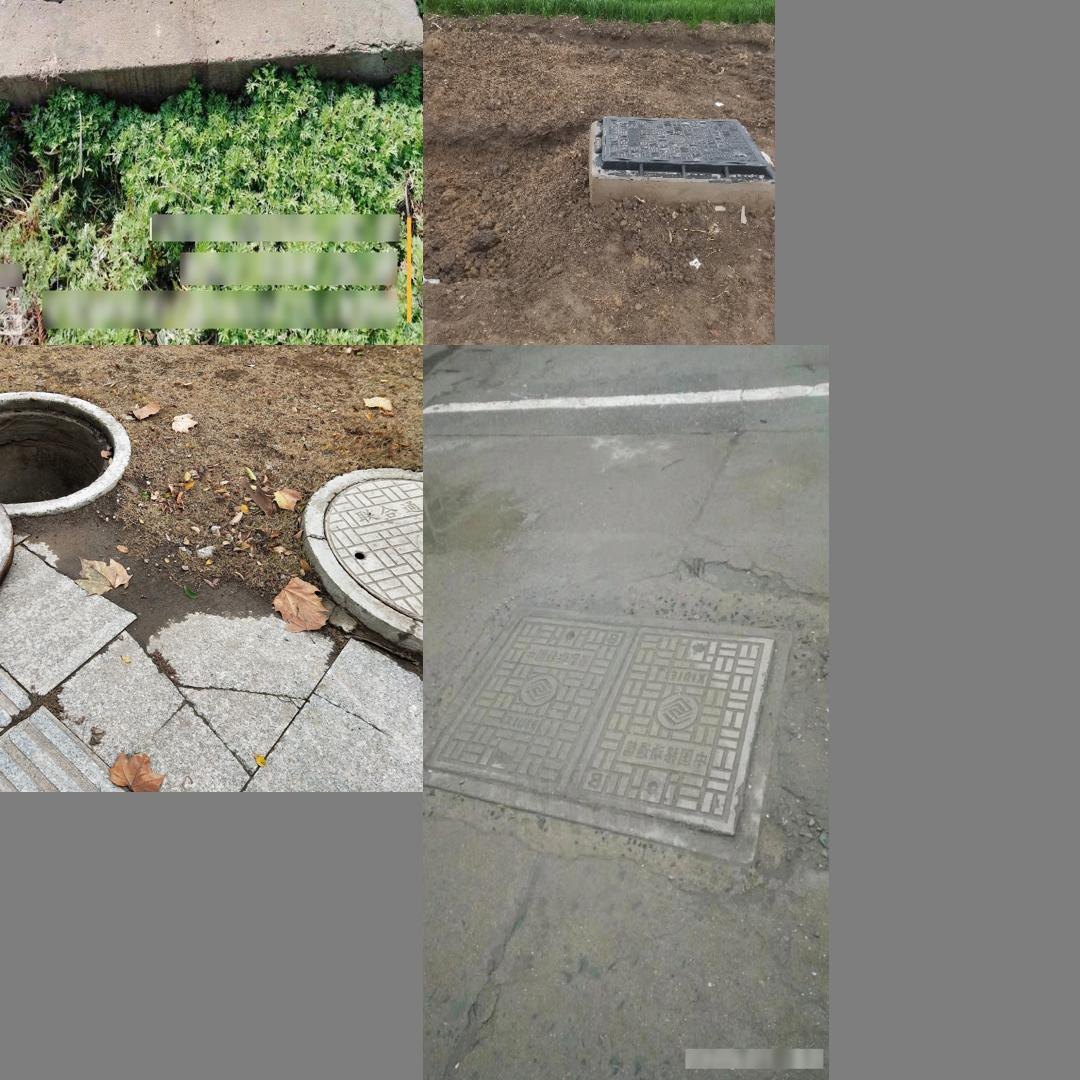good: (423, 610, 791, 863), (303, 467, 423, 654), (590, 112, 770, 167), (22, 0, 327, 3)
uncovered: (0, 390, 128, 656)
